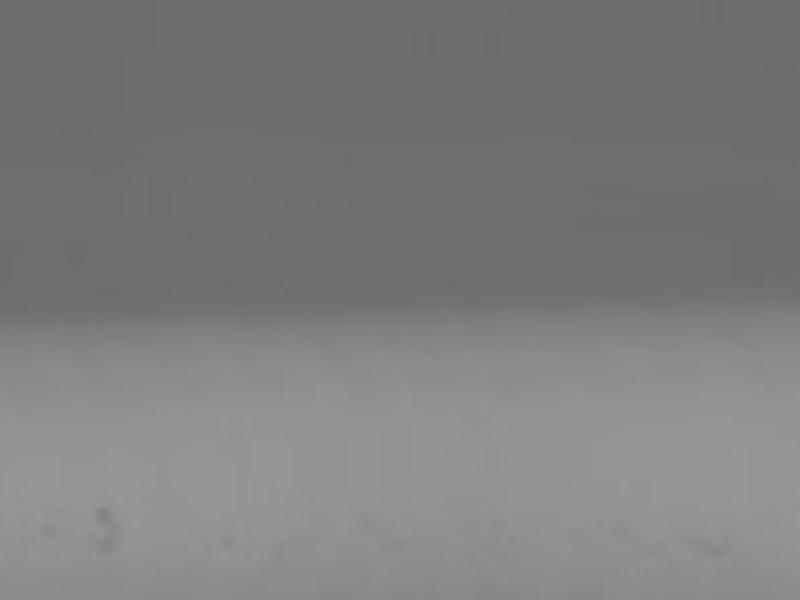defect: (36, 517, 64, 545), (96, 535, 120, 556), (94, 507, 113, 526), (221, 534, 239, 552)
